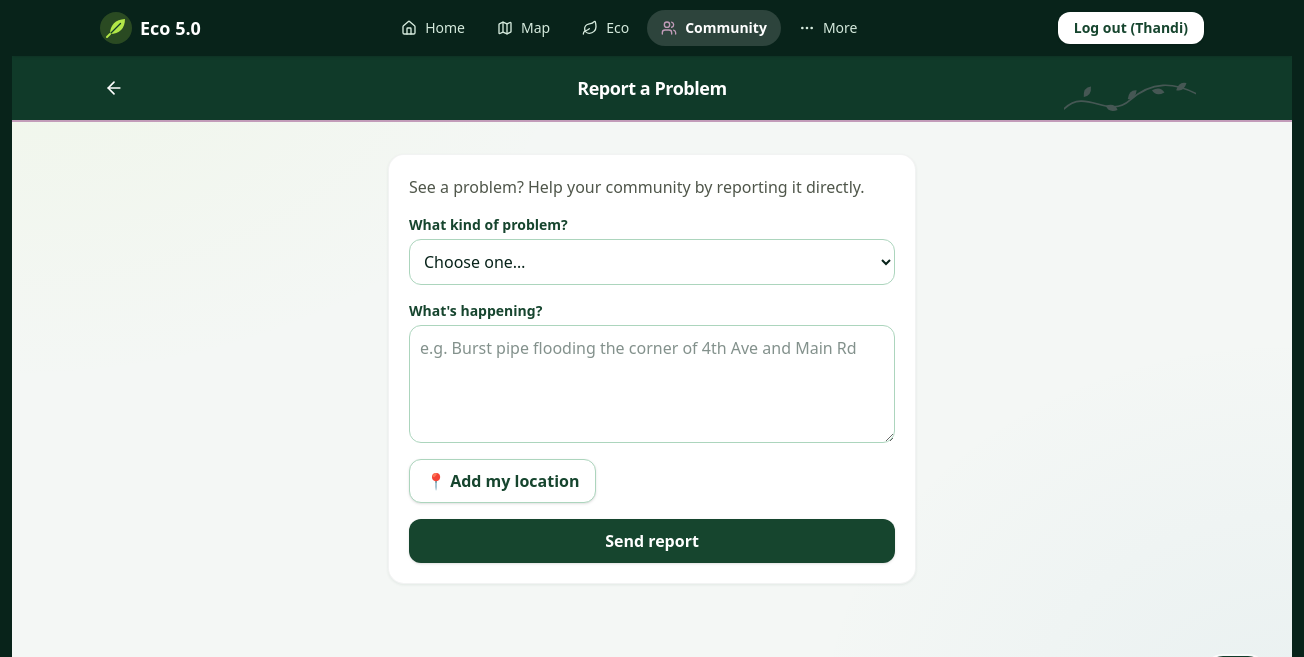
Test: Report a problem (/community/report) › checks the form before sending
Click the button "Send report" at (652, 541), box [409,519,895,563]
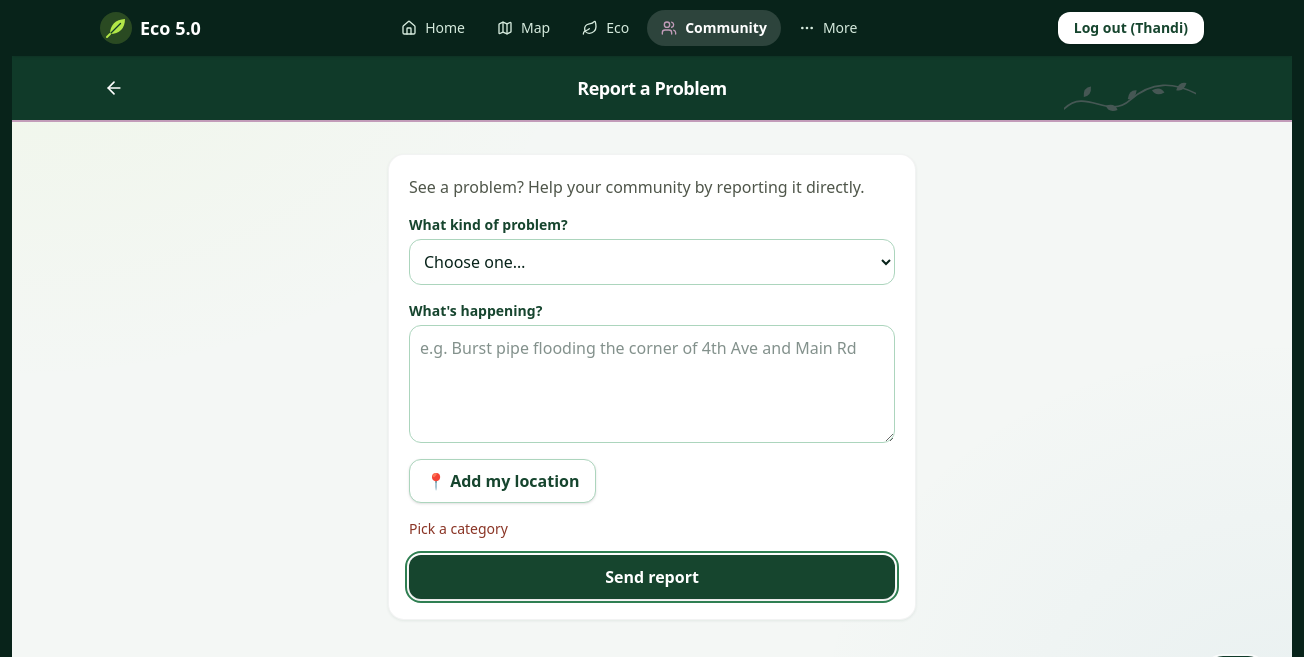
expect the message reads "Pick a category": met, box [409,519,508,538]
